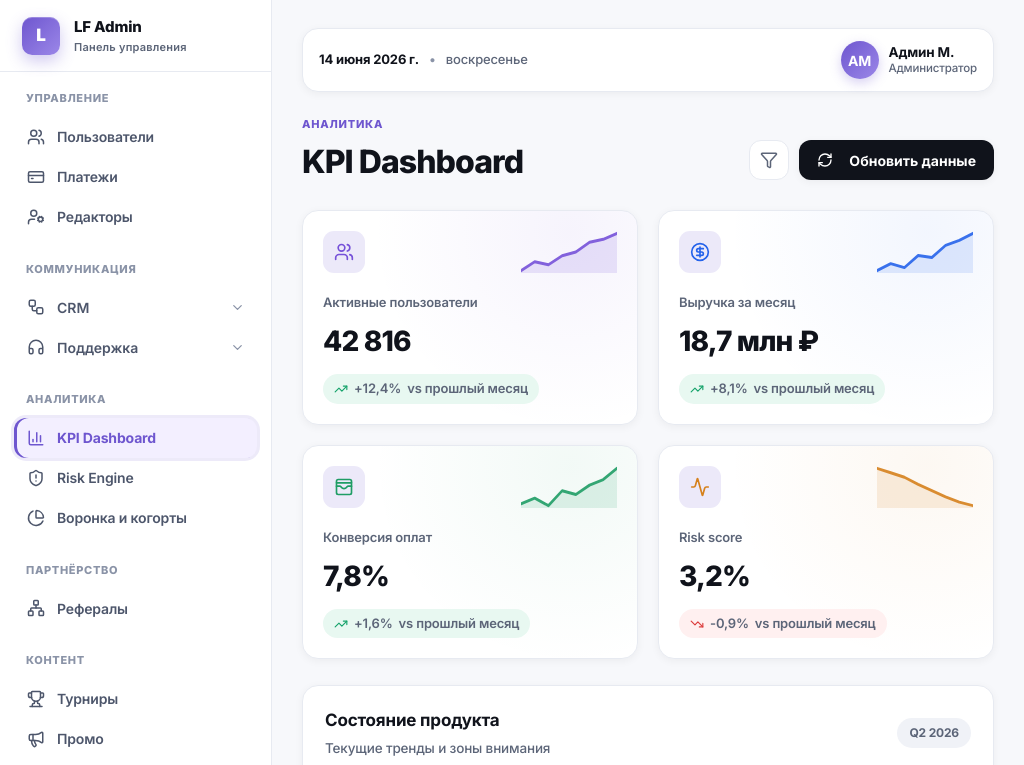
Test: AC-3: CRM and Support expand by click › collapsible groups can be toggled closed
The image size is (1024, 765).
Click the button "CRM": point(136, 307) [14,287,257,327]
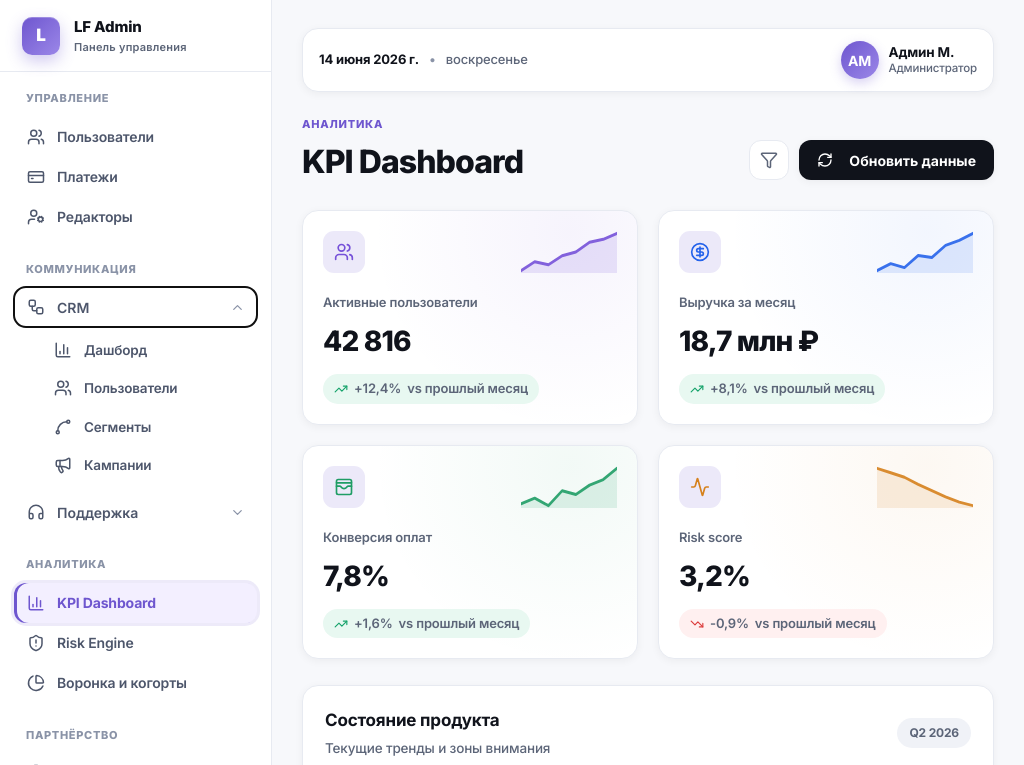
Now the link "Дашборд" is shown, box [54,341,147,359]
Click the button "CRM": point(136, 307) [14,287,257,327]
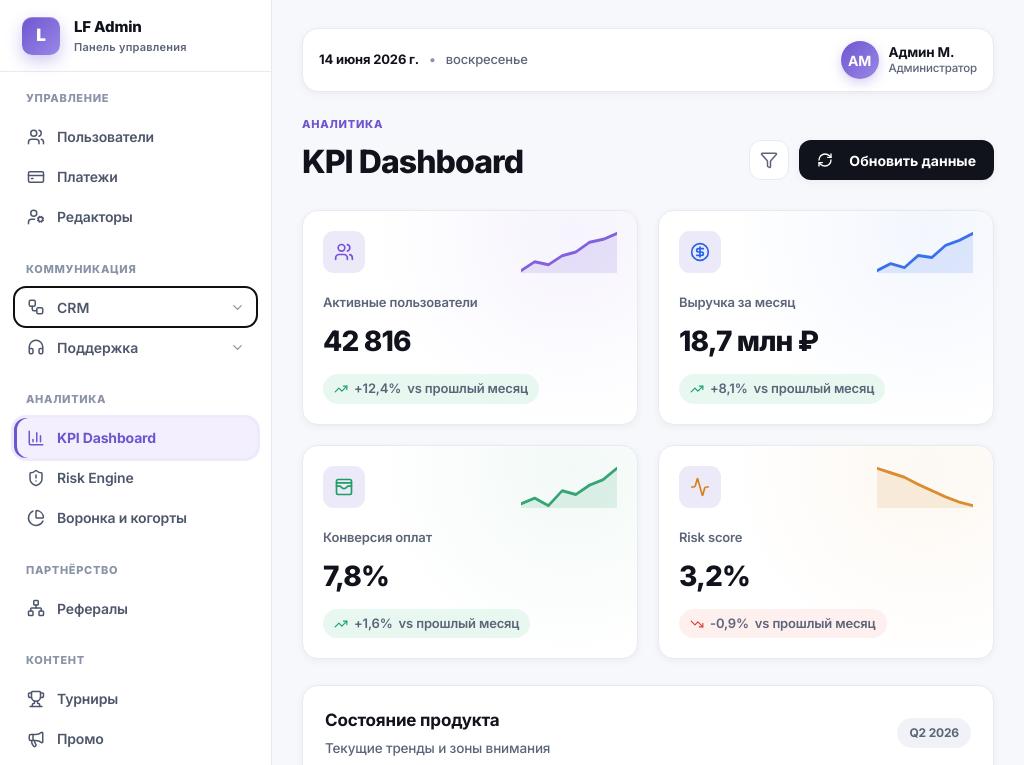
Now the link "Дашборд" is gone
